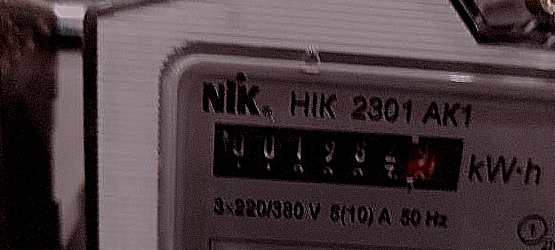0: (260, 131, 277, 160), (230, 128, 246, 157)
1: (292, 131, 304, 160)
2: (382, 134, 400, 163)
8: (352, 135, 368, 163)
9: (413, 140, 433, 168), (321, 134, 336, 163)
screen: (196, 108, 477, 204)
